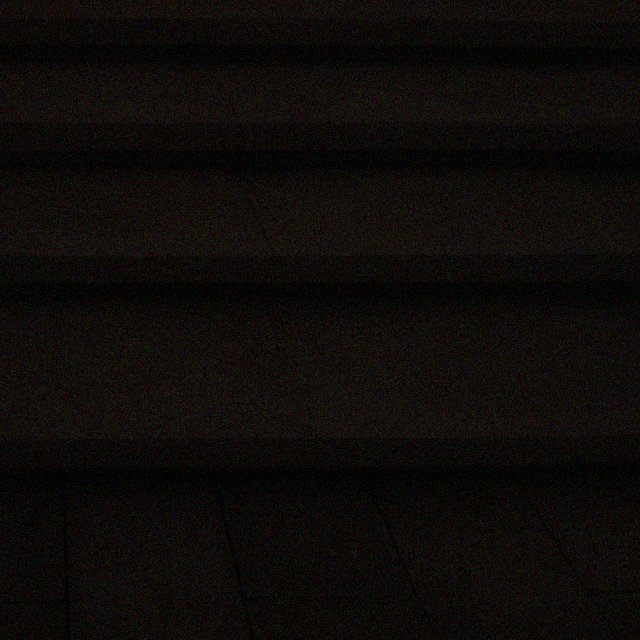stair: (0, 0, 639, 471)
